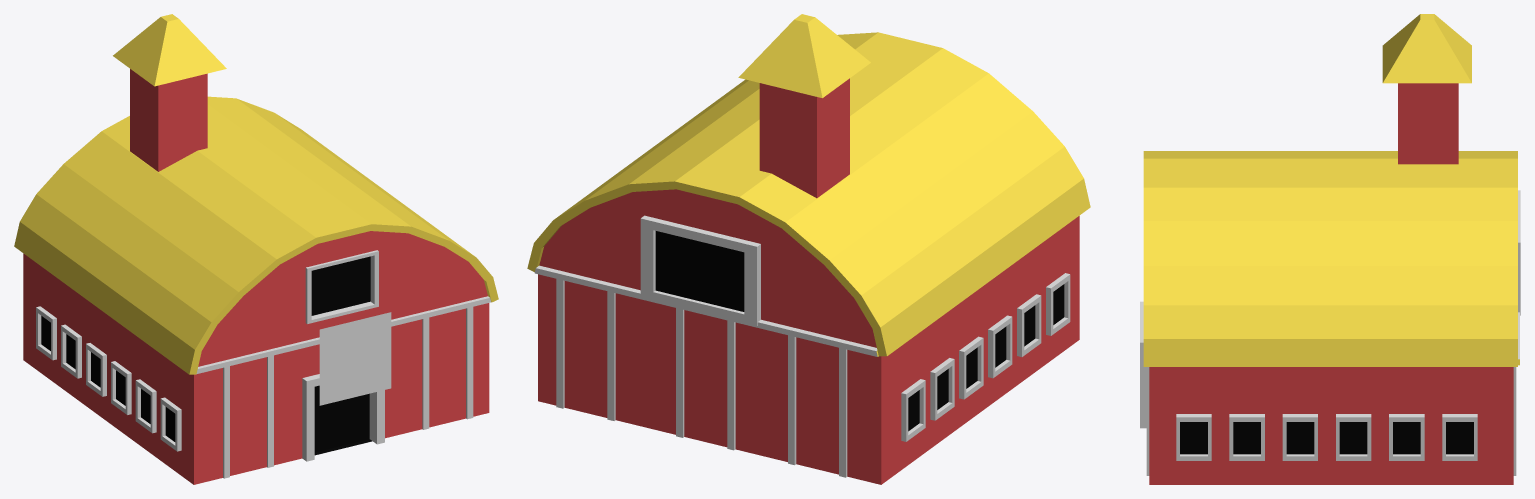
Rendered from Farm (2).fbx.
3 views of the same model, side by side, from view 1: azimuth 30°, elevation 25°; view 2: azimuth 150°, elevation 25°; view 3: azimuth 270°, elevation 25° (orthographic). The views are drawn at different scales.
Visible parts, largest first — view 1: Cube.004, Plane; view 2: Cube.004; view 3: Cube.004.
Part boxes in pixels (<box>): Cube.004: <box>14,14,498,484</box>; Plane: <box>319,312,391,405</box>; Cube.004: <box>527,14,1090,484</box>; Cube.004: <box>1140,14,1520,484</box>.
Bounding box in the file's own units: 419 × 448 × 441.
